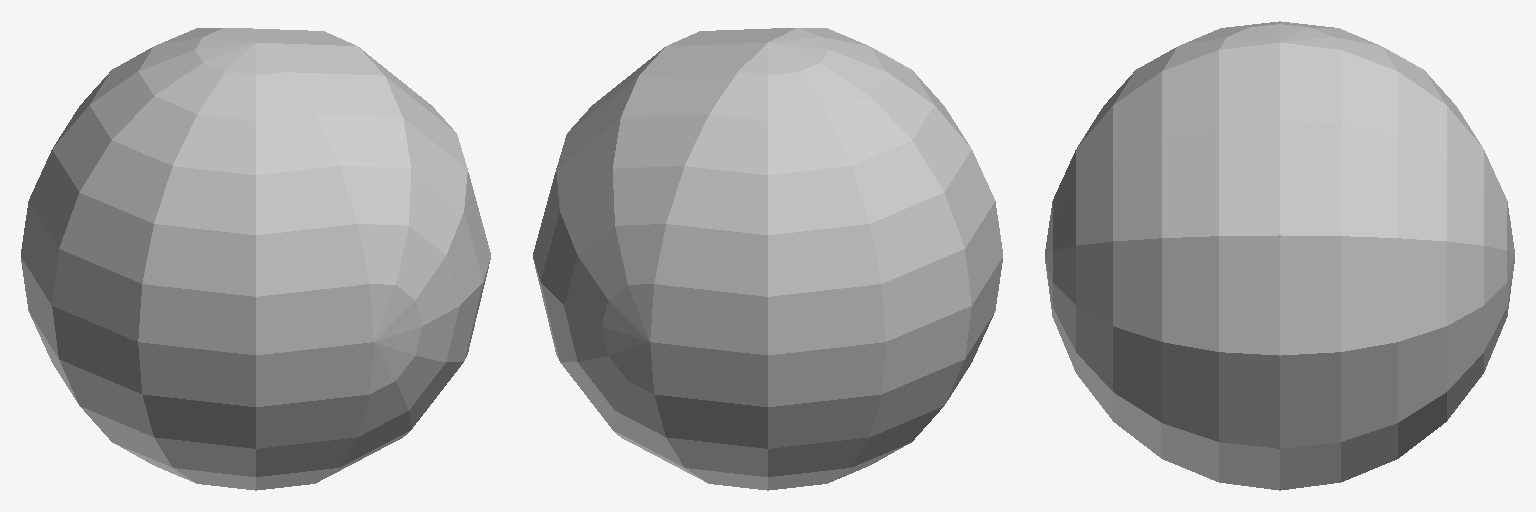
Rendered from Tennisball.obj.
3 views of the same model, side by side, from view 1: azimuth 30°, elevation 25°; view 2: azimuth 150°, elevation 25°; view 3: azimuth 270°, elevation 25° (orthographic).
Visible parts, largest first — view 1: tennisball_Sphere.001; view 2: tennisball_Sphere.001; view 3: tennisball_Sphere.001.
Part boxes in pixels (left/top/right/bottom): tennisball_Sphere.001: left=21, top=28, right=490, bottom=490; tennisball_Sphere.001: left=533, top=28, right=1002, bottom=490; tennisball_Sphere.001: left=1045, top=21, right=1514, bottom=490.
Bounding box in the file's own units: 0.1783 × 0.1783 × 0.1783.